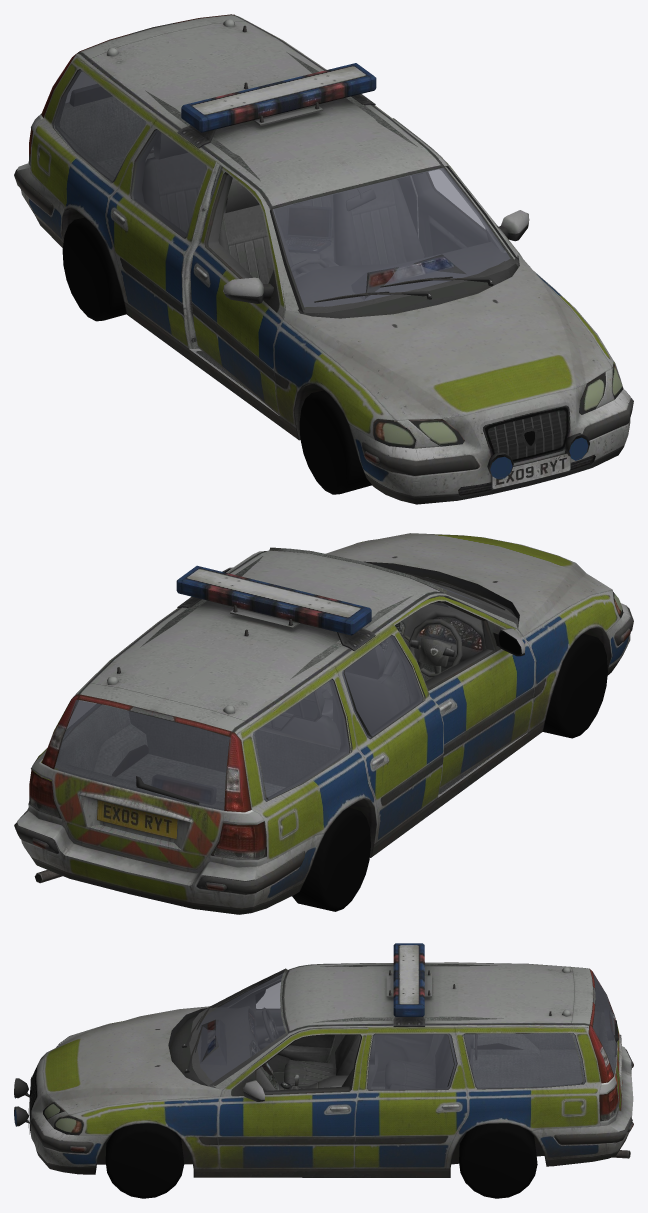
File: police-battenburg-break.glb
The picture shows the model from 3 angles, top to bottom: view 1: azimuth 30°, elevation 25°; view 2: azimuth 150°, elevation 25°; view 3: azimuth 270°, elevation 25°; orthographic projection. The views are drawn at different scales.
Visible parts, largest first — view 1: Body_5, Body_4, Body_8, Body_6, Pneu_FR_1, Body_9, Pneu_RR_3, Body_7, Gyrophare_D, Gyrophare_G; view 2: Body_5, Body_8, Body_4, Body_6, Body_7, Pneu_RR_3, Pneu_FR_1, Gyrophare_D, Gyrophare_G; view 3: Body_5, Body_8, Body_4, Body_9, Pneu_RL_2, Pneu_FL_0, Body_6, Body_7, Gyrophare_G, Gyrophare_D.
Part boxes in pixels (x1,y1,x2,y2): Body_5: (14, 15, 633, 504); Body_4: (53, 69, 510, 307); Body_8: (53, 52, 519, 314); Body_6: (190, 167, 286, 414); Pneu_FR_1: (299, 390, 371, 494); Body_9: (393, 118, 529, 266); Pneu_RR_3: (62, 217, 126, 321); Body_7: (29, 14, 622, 479); Gyrophare_D: (181, 83, 288, 132); Gyrophare_G: (245, 63, 376, 111); Body_5: (14, 533, 633, 914); Body_8: (55, 547, 518, 849); Body_4: (54, 587, 481, 810); Body_6: (388, 596, 535, 788); Body_7: (29, 592, 623, 859); Pneu_RR_3: (292, 807, 370, 911); Pneu_FR_1: (543, 633, 607, 738); Gyrophare_D: (246, 587, 371, 635); Gyrophare_G: (176, 565, 282, 630); Body_5: (14, 962, 633, 1177); Body_8: (189, 964, 614, 1090); Body_4: (197, 972, 617, 1090); Body_9: (217, 1028, 368, 1169); Pneu_RL_2: (459, 1123, 537, 1198); Pneu_FL_0: (105, 1123, 184, 1198); Body_6: (227, 974, 345, 1085); Body_7: (14, 968, 618, 1135); Gyrophare_G: (389, 974, 454, 1016); Gyrophare_D: (389, 943, 430, 975).
Size of the model in its own units: 2.1 by 1.58 by 4.97.
Materials: 7 (5 with a texture image).
